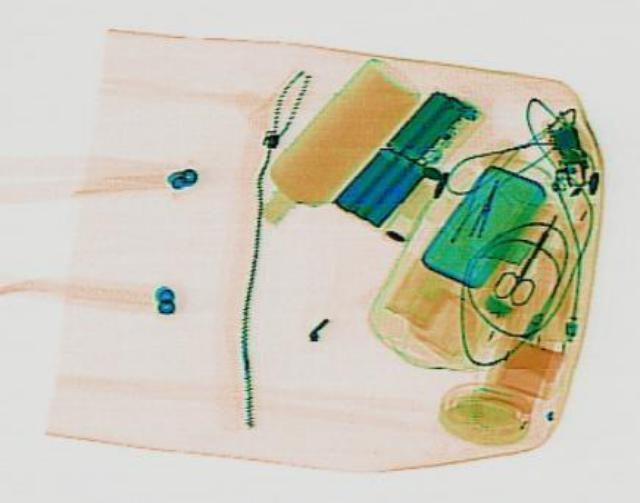Scissors: (484, 209, 570, 306)
